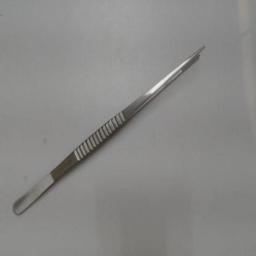DeBakey Dissector: (7, 29, 215, 223)
